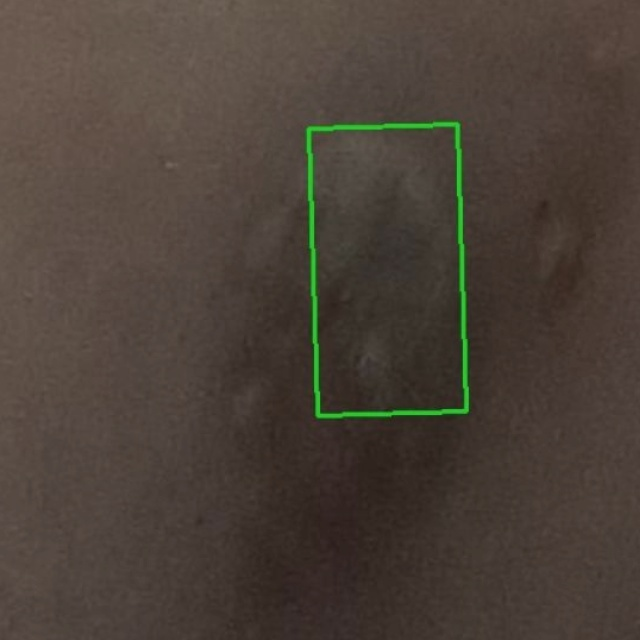Eczema: (308, 125, 466, 416)
